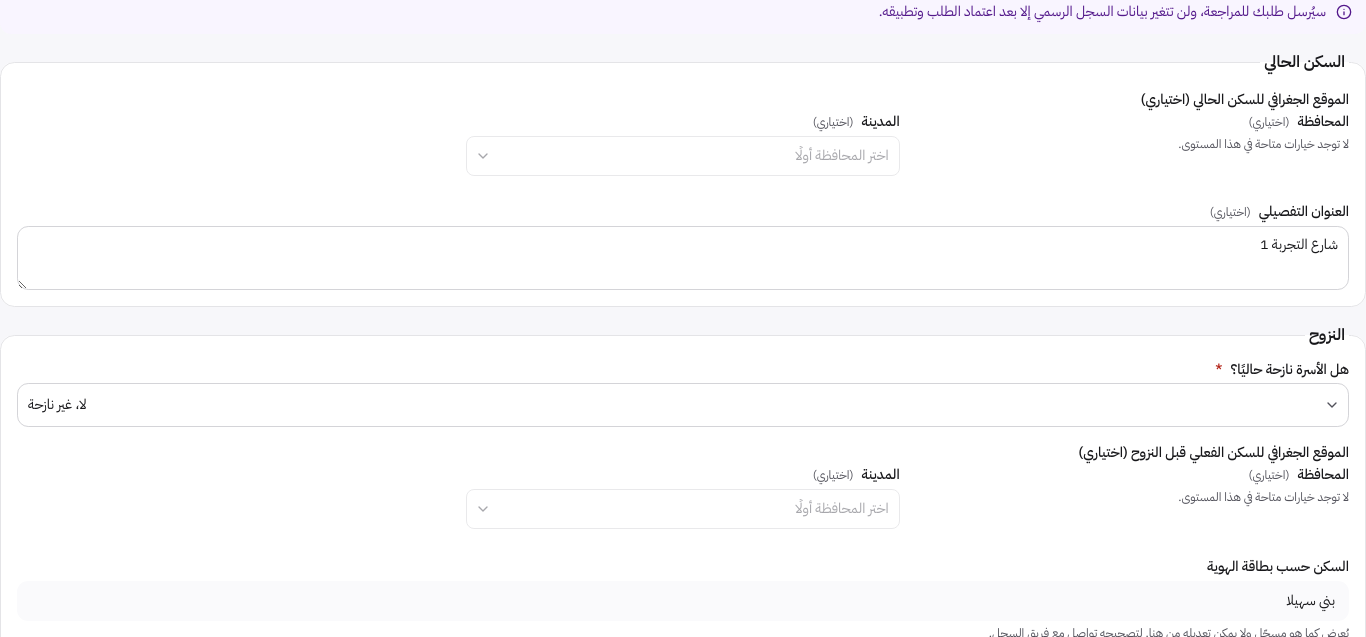
Test: the residence update form (payload v3) › explains CHANGE_REQUEST_ALREADY_OPEN safely
Type " الجديد" into the text box labelled "العنوان التفصيلي (اختياري)".
click(683, 258); type(" الجديد")  # box [17,226,1349,290]
(page scrolled)
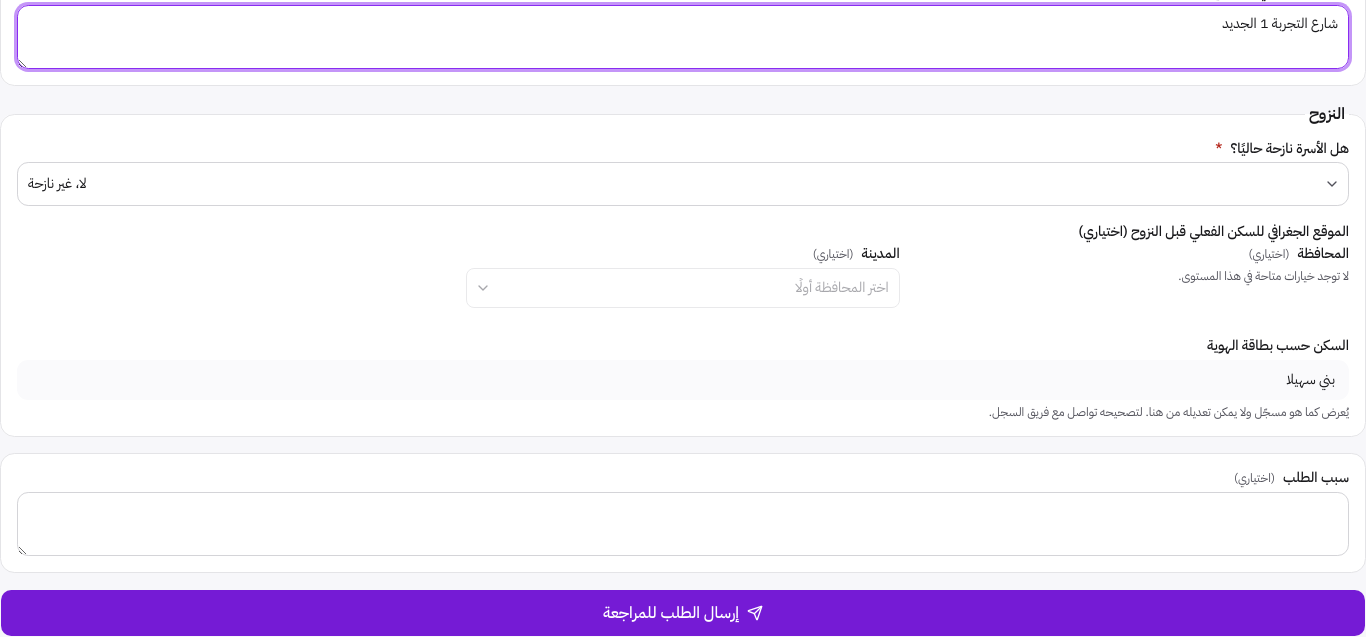
Click the button "إرسال الطلب للمراجعة".
click(683, 613)  # box [0,589,1365,636]
(page scrolled)
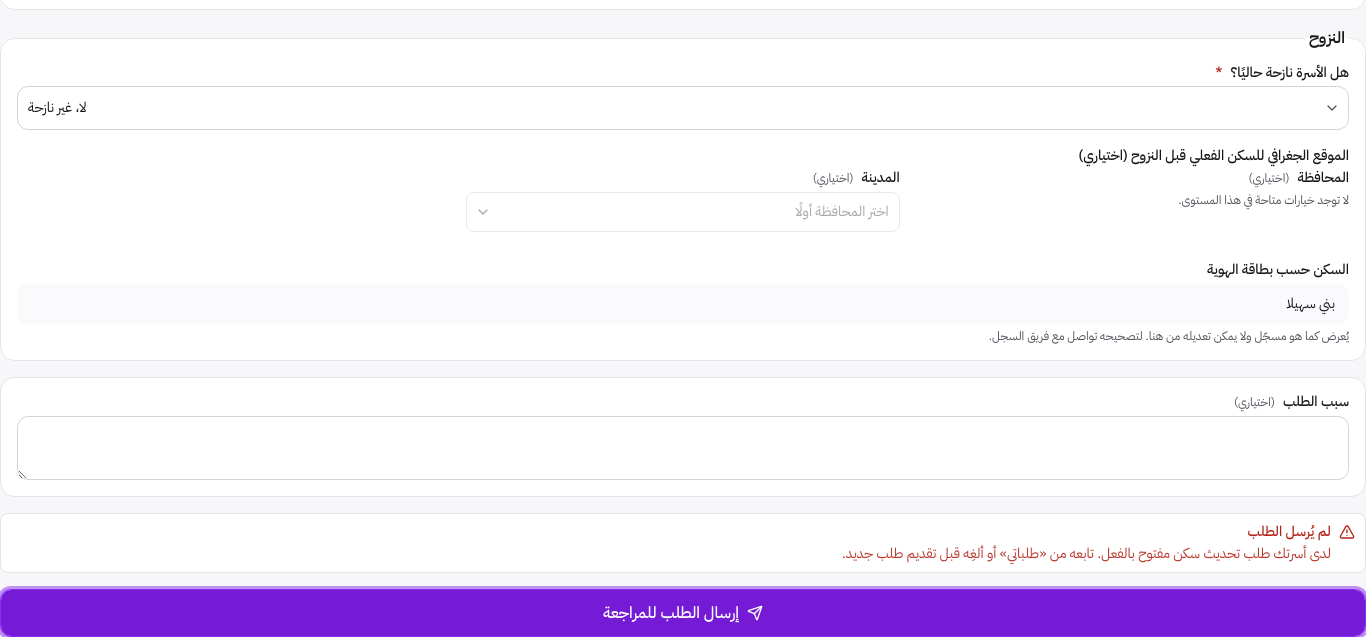
Expected: the message shows "طلب تحديث سكن مفتوح بالفعل", [842,543,1331,564]
